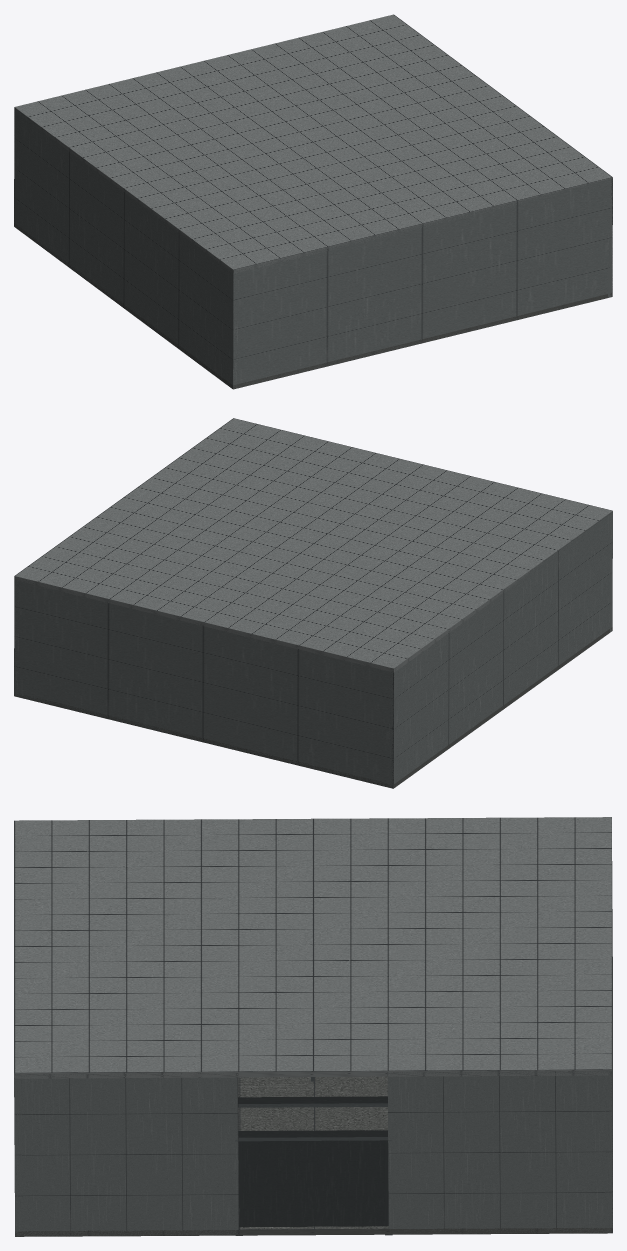
The model's file is Station.fbx.
3 views of the same model, one above another, from view 1: azimuth 30°, elevation 25°; view 2: azimuth 150°, elevation 25°; view 3: azimuth 270°, elevation 25° (orthographic). The views are drawn at different scales.
Visible parts, largest first — view 1: Ceiling, Wall, Floor; view 2: Ceiling, Wall, Floor; view 3: Ceiling, Wall, Door, Floor, CableTray, DoorHeader, DoorFrame.
Boxes of the visible parts, x1,y1,x2,y2 form: Ceiling: (14,14,612,273); Wall: (14,108,612,389); Floor: (14,223,612,389); Ceiling: (14,418,612,672); Wall: (14,512,612,788); Floor: (14,627,612,788); Ceiling: (14,817,611,1078); Wall: (14,861,612,1236); Door: (242,1140,384,1227); Floor: (15,1076,612,1236); CableTray: (238,1096,387,1107); DoorHeader: (235,1130,391,1141); DoorFrame: (235,1130,392,1235).
Bounding box in the file's own units: 24.05 × 7.4 × 24.05.
